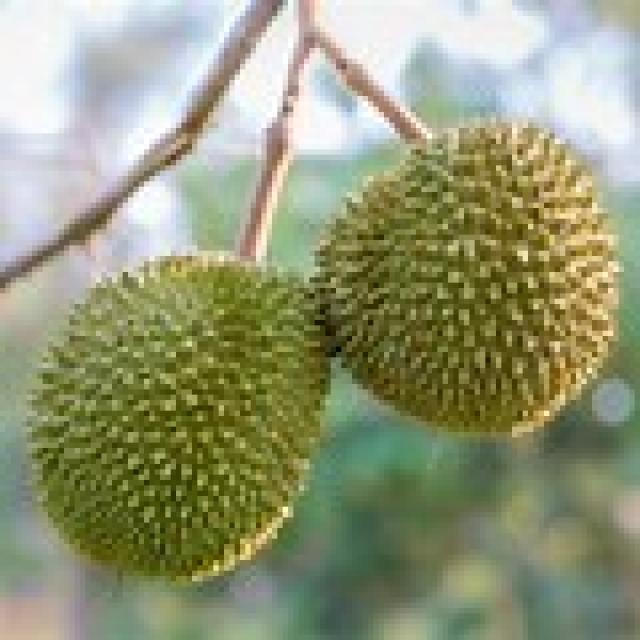immature: (308, 118, 621, 451), (28, 245, 330, 589)
